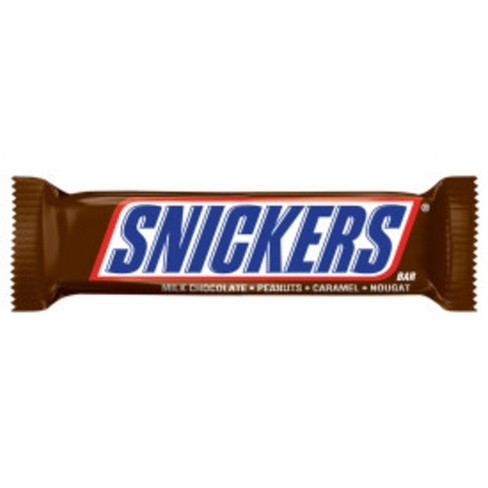snickers: (103, 202, 405, 271)
